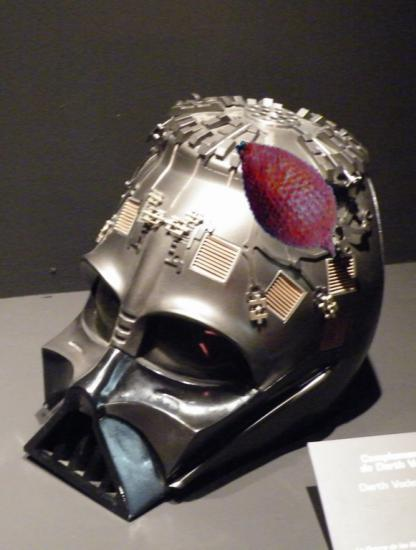Salak: (216, 124, 364, 272)
